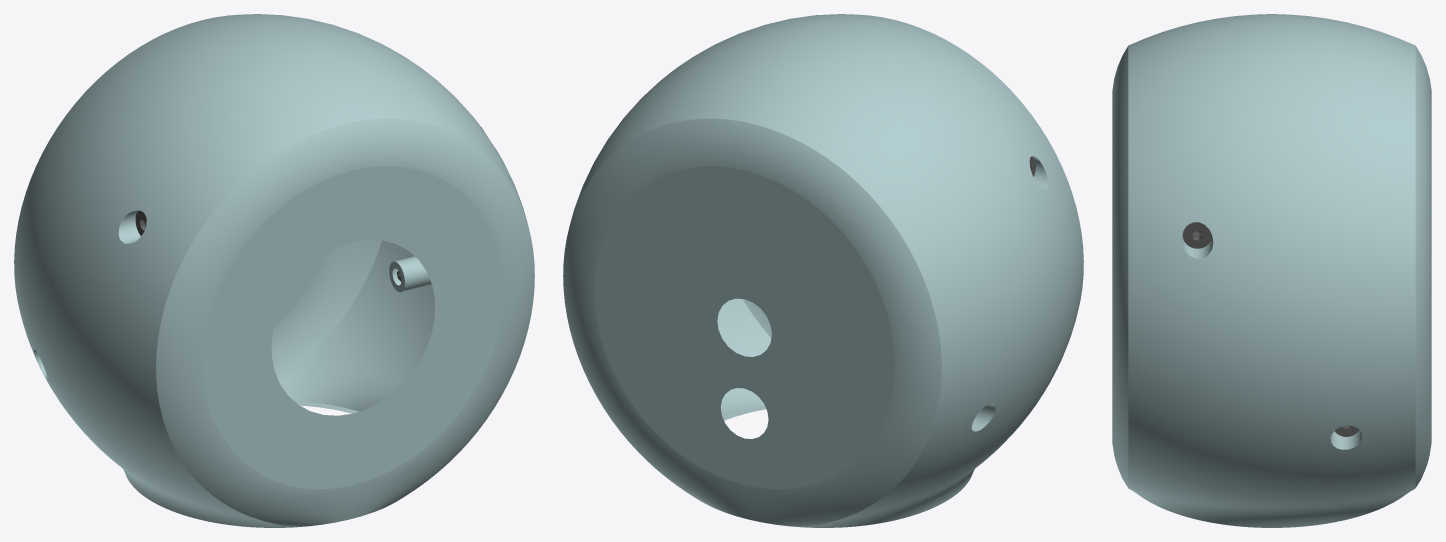
The model's file is left_arm_link6.obj.
3 views of the same model, side by side, from view 1: azimuth 30°, elevation 25°; view 2: azimuth 150°, elevation 25°; view 3: azimuth 270°, elevation 25° (orthographic).
Parts seen in each view (by area): view 1: 1; view 2: 1; view 3: 1, 2.
Boxes of the visible parts, <box> form: 1: <box>14,14,534,527</box>; 1: <box>563,14,1083,527</box>; 1: <box>1112,14,1431,527</box>; 2: <box>1183,222,1359,436</box>.
Size of the model in its own units: 0.095 by 0.0883 by 0.06.
